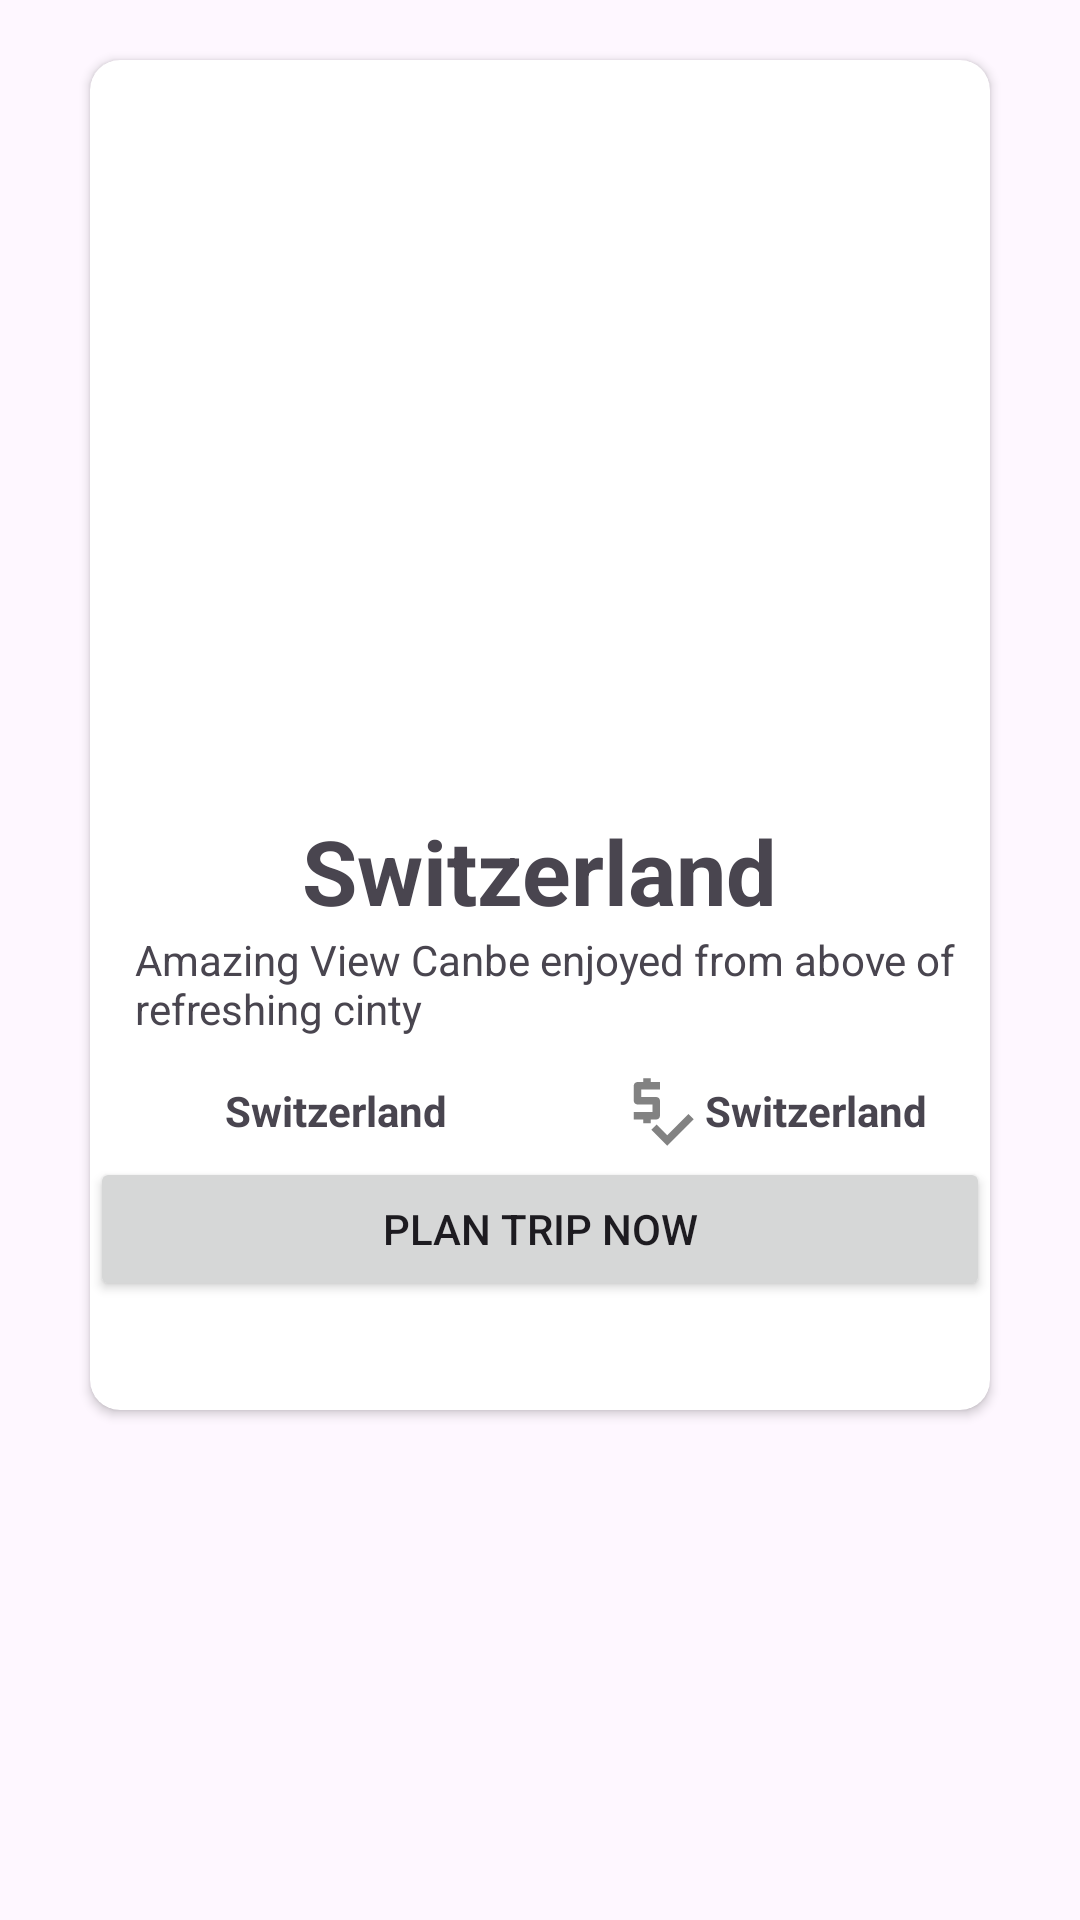

Named icons in this screenshot (1080px×1920px) and their bounding boxes, (x1, y1, x2, y2):
price check: (633, 1078, 694, 1146)
